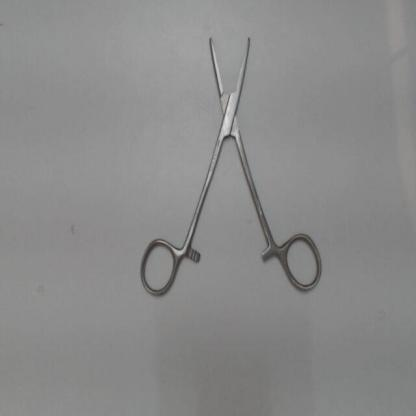Mayo Needle Holder: (132, 16, 329, 302)
